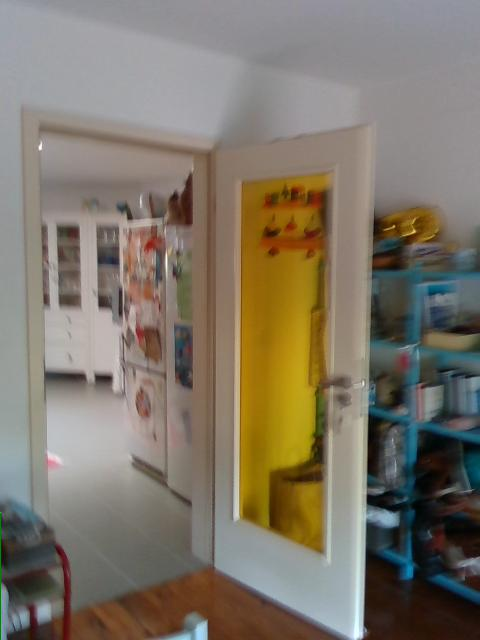open_door: (19, 102, 222, 565)
